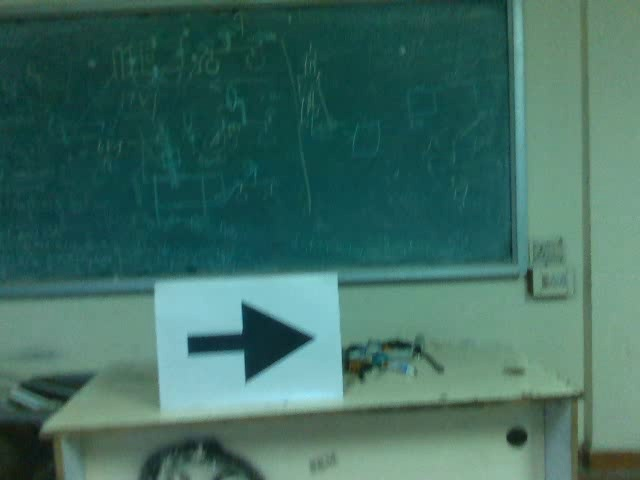Right: (174, 294, 321, 387)
